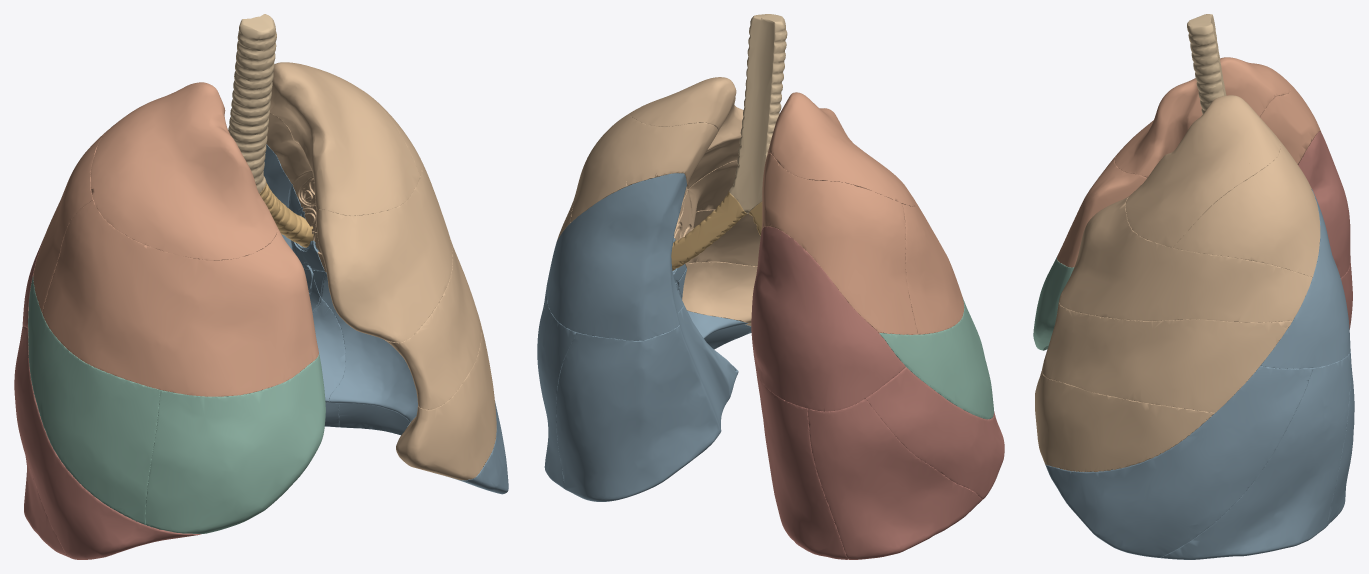
Rendered from lungs.glb.
3 renders of one model, left to right at view 1: azimuth 30°, elevation 25°; view 2: azimuth 150°, elevation 25°; view 3: azimuth 270°, elevation 25°, orthographic. The views are drawn at different scales.
Parts seen in each view (by area): view 1: FMA7359, FMA7338, FMA7360, FMA7372, FMA7373, FMA7361, FMA7364, FMA7375, FMA7374, FMA7378, FMA7394, FMA7339 (+5 smaller); view 2: FMA7380, FMA7376, FMA7366, FMA7363, FMA7339, FMA7372, FMA7364, FMA7362, FMA7338, FMA7394, FMA7361, FMA7359 (+6 smaller); view 3: FMA7372, FMA7378, FMA7373, FMA7374, FMA7379, FMA7375, FMA7338, FMA7376, FMA7366, FMA7359, FMA7339, FMA7394 (+3 smaller).
Part boxes in pixels (x1=…): FMA7359: x1=42, y1=200, x2=318, y2=396; FMA7338: x1=90, y1=82, x2=277, y2=260; FMA7360: x1=145, y1=353, x2=325, y2=533; FMA7372: x1=266, y1=62, x2=421, y2=215; FMA7373: x1=300, y1=160, x2=452, y2=342; FMA7361: x1=28, y1=276, x2=160, y2=525; FMA7364: x1=14, y1=326, x2=201, y2=559; FMA7375: x1=396, y1=325, x2=496, y2=480; FMA7374: x1=312, y1=231, x2=481, y2=409; FMA7378: x1=312, y1=270, x2=508, y2=494; FMA7394: x1=228, y1=14, x2=276, y2=193; FMA7339: x1=33, y1=130, x2=107, y2=311; FMA7380: x1=556, y1=284, x2=738, y2=501; FMA7376: x1=546, y1=173, x2=686, y2=340; FMA7366: x1=751, y1=226, x2=905, y2=411; FMA7363: x1=807, y1=399, x2=982, y2=559; FMA7339: x1=761, y1=153, x2=917, y2=334; FMA7372: x1=570, y1=77, x2=743, y2=222; FMA7364: x1=865, y1=367, x2=1004, y2=499; FMA7362: x1=755, y1=365, x2=847, y2=559; FMA7338: x1=767, y1=92, x2=915, y2=206; FMA7394: x1=729, y1=14, x2=787, y2=213; FMA7361: x1=879, y1=298, x2=993, y2=419; FMA7359: x1=902, y1=201, x2=964, y2=334; FMA7372: x1=1125, y1=95, x2=1320, y2=277; FMA7378: x1=1045, y1=365, x2=1313, y2=557; FMA7373: x1=1059, y1=194, x2=1312, y2=322; FMA7374: x1=1042, y1=302, x2=1292, y2=412; FMA7379: x1=1159, y1=352, x2=1350, y2=559; FMA7375: x1=1035, y1=371, x2=1214, y2=472; FMA7338: x1=1115, y1=57, x2=1290, y2=177; FMA7376: x1=1261, y1=189, x2=1350, y2=368; FMA7366: x1=1298, y1=131, x2=1350, y2=277; FMA7359: x1=1057, y1=153, x2=1146, y2=267; FMA7339: x1=1260, y1=81, x2=1320, y2=164; FMA7394: x1=1187, y1=14, x2=1226, y2=114.
Bounding box in the file's own units: 4.59 × 5.02 × 3.25.
